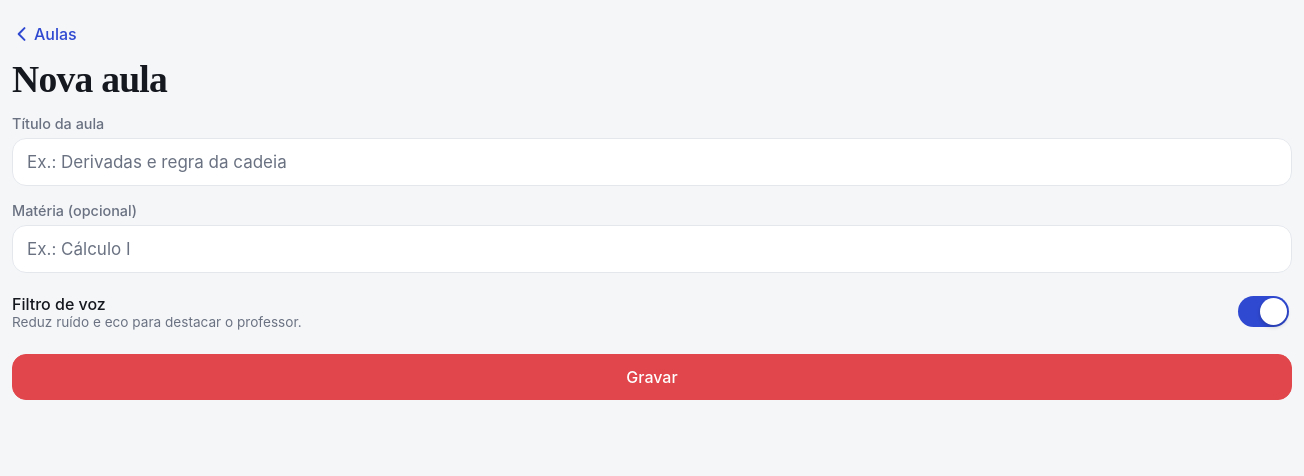
Scenario: RecordScreen — avisos › mostra como evitar o bloqueio quando a tela não pode ficar acesa
The width and height of the screenshot is (1304, 476).
Type "Cálculo" into the field labelled "Título da aula". click: (652, 162)
box: [12,138,1292,186]
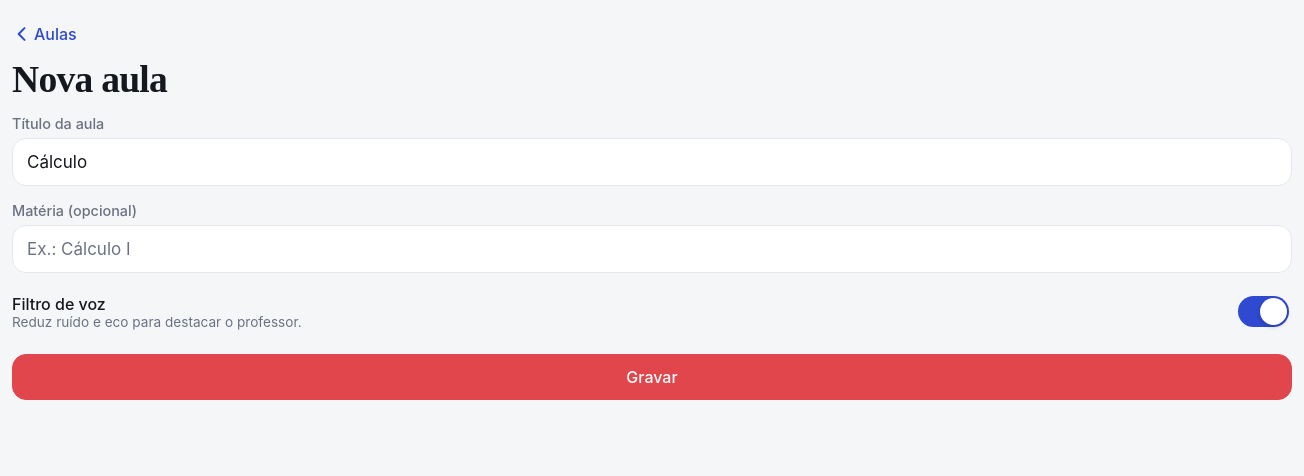
Click the button "Gravar". click: click(652, 378)
box: [12,354,1292,400]
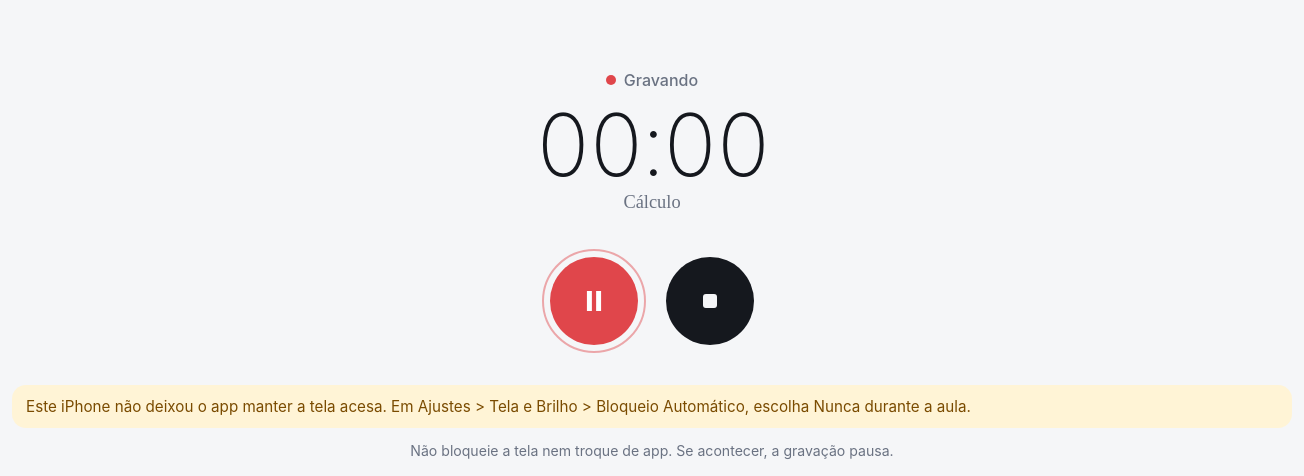
Now the text "Bloqueio Automático, escolha Nunca" is shown, box [26,397,971,416]
